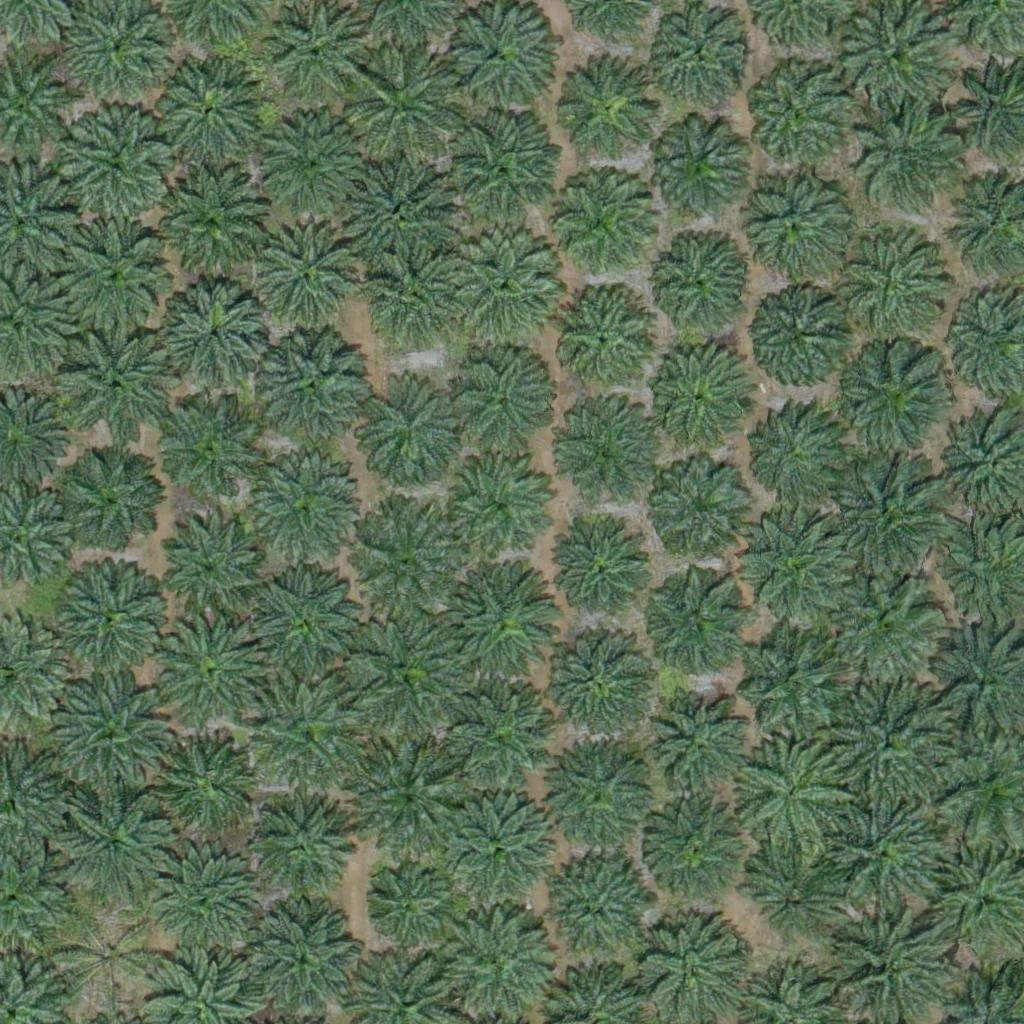Kelapa_Sawit: (437, 229, 562, 355), (825, 684, 950, 810), (433, 681, 558, 807), (347, 738, 472, 864), (738, 163, 851, 277), (447, 451, 560, 565), (351, 373, 464, 487), (440, 564, 553, 678), (152, 613, 265, 727), (247, 903, 360, 1017), (349, 43, 462, 156), (341, 156, 454, 269), (250, 221, 363, 334), (56, 219, 169, 332), (742, 510, 855, 623), (348, 508, 461, 621), (161, 513, 274, 626), (54, 559, 167, 672), (60, 334, 173, 447), (827, 570, 940, 683), (639, 799, 752, 912), (541, 629, 654, 742), (542, 742, 655, 855), (250, 673, 363, 786), (445, 340, 557, 454), (257, 328, 369, 442), (56, 674, 168, 788), (151, 851, 263, 965), (840, 226, 952, 339), (550, 289, 662, 402), (547, 169, 659, 282), (445, 107, 557, 220), (150, 53, 262, 166), (157, 171, 269, 284), (62, 106, 174, 219), (160, 284, 272, 397), (830, 454, 942, 567), (544, 398, 656, 511), (152, 401, 264, 514), (248, 462, 360, 575), (252, 564, 364, 677), (829, 795, 941, 908), (739, 629, 851, 742), (540, 860, 652, 973), (441, 796, 553, 909), (440, 907, 552, 1020), (349, 618, 461, 731), (58, 786, 170, 899), (842, 341, 954, 454), (59, 908, 159, 1009), (852, 107, 952, 208), (748, 62, 848, 163), (261, 112, 361, 213), (747, 404, 847, 505), (647, 344, 747, 445), (653, 454, 753, 555), (62, 451, 162, 552), (742, 746, 842, 847), (748, 840, 848, 941), (642, 576, 742, 677), (653, 693, 753, 794), (759, 284, 859, 384), (654, 8, 754, 108), (648, 117, 748, 217), (649, 236, 749, 336), (564, 60, 664, 160), (555, 525, 655, 625), (154, 735, 254, 835), (253, 793, 353, 893), (367, 869, 442, 945), (370, 260, 445, 335)
